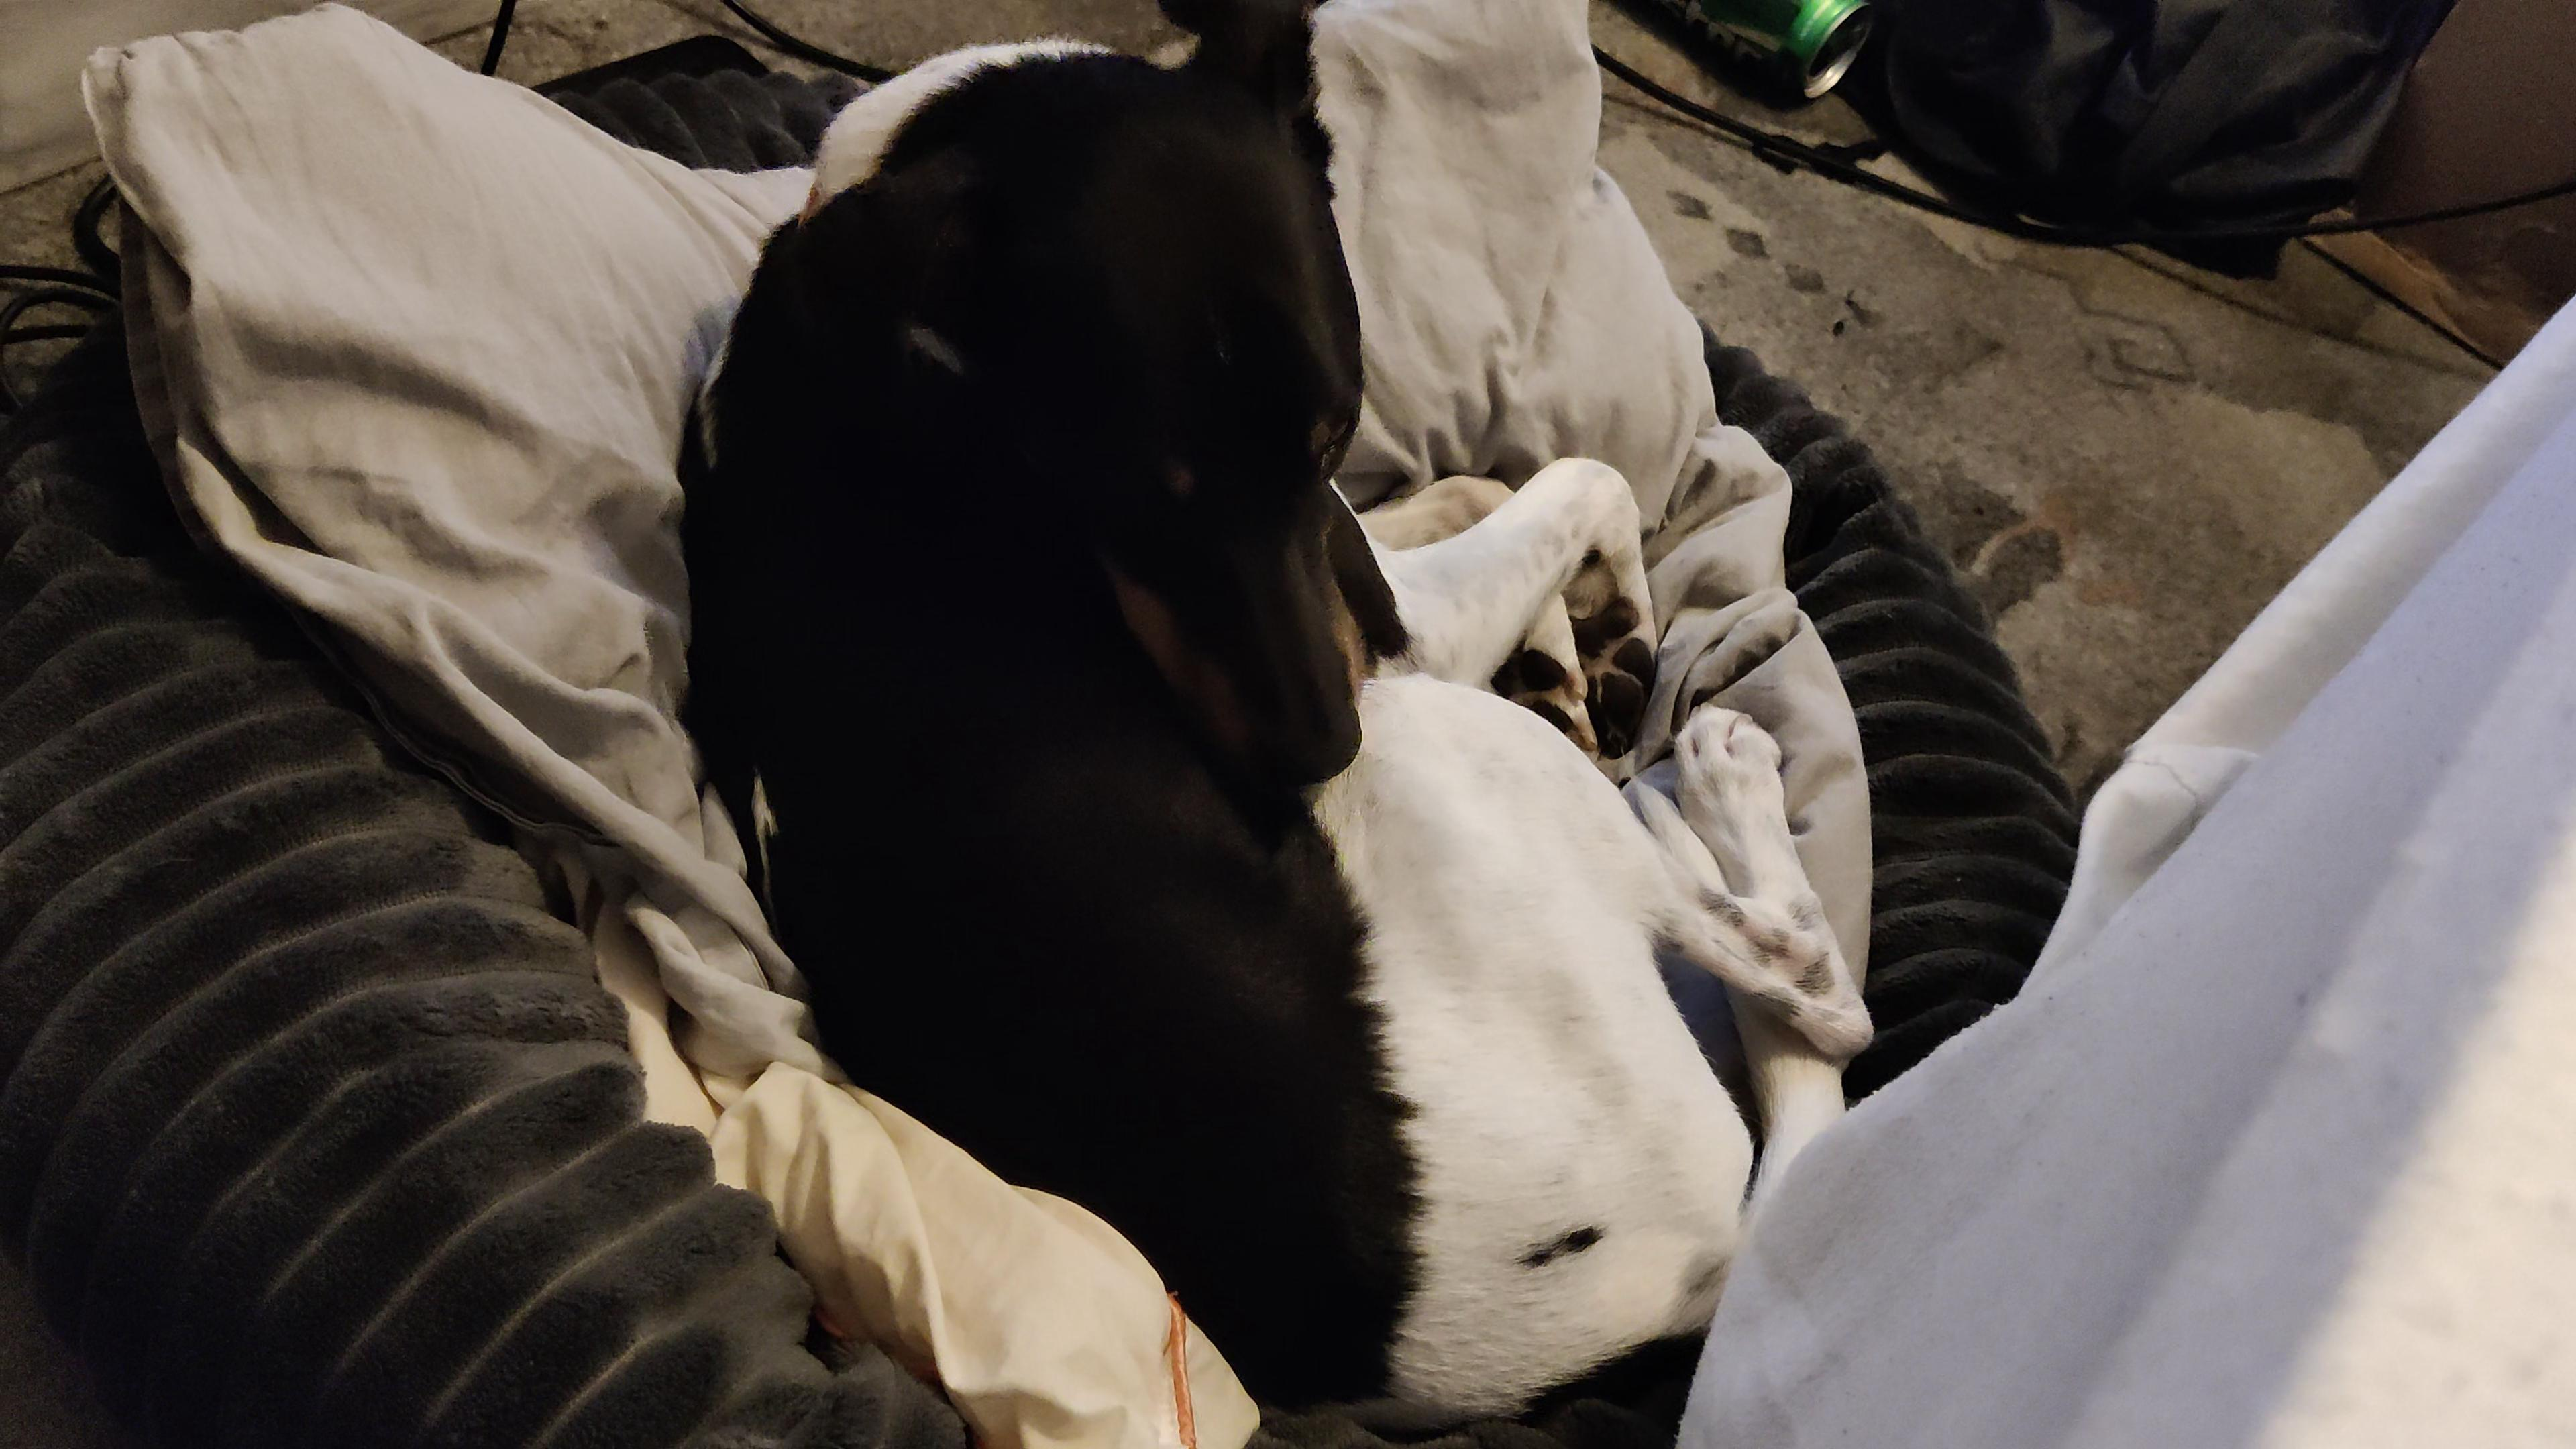Dog: (635, 0, 1904, 1426)
